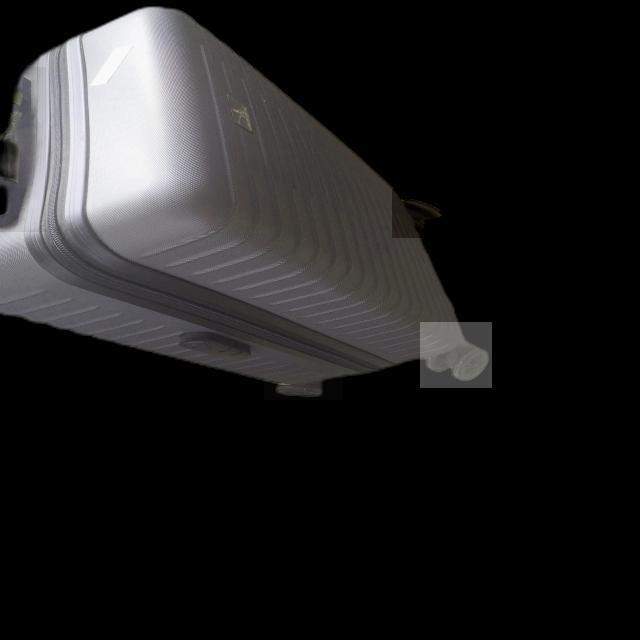Suitcase: (2, 0, 490, 408)
